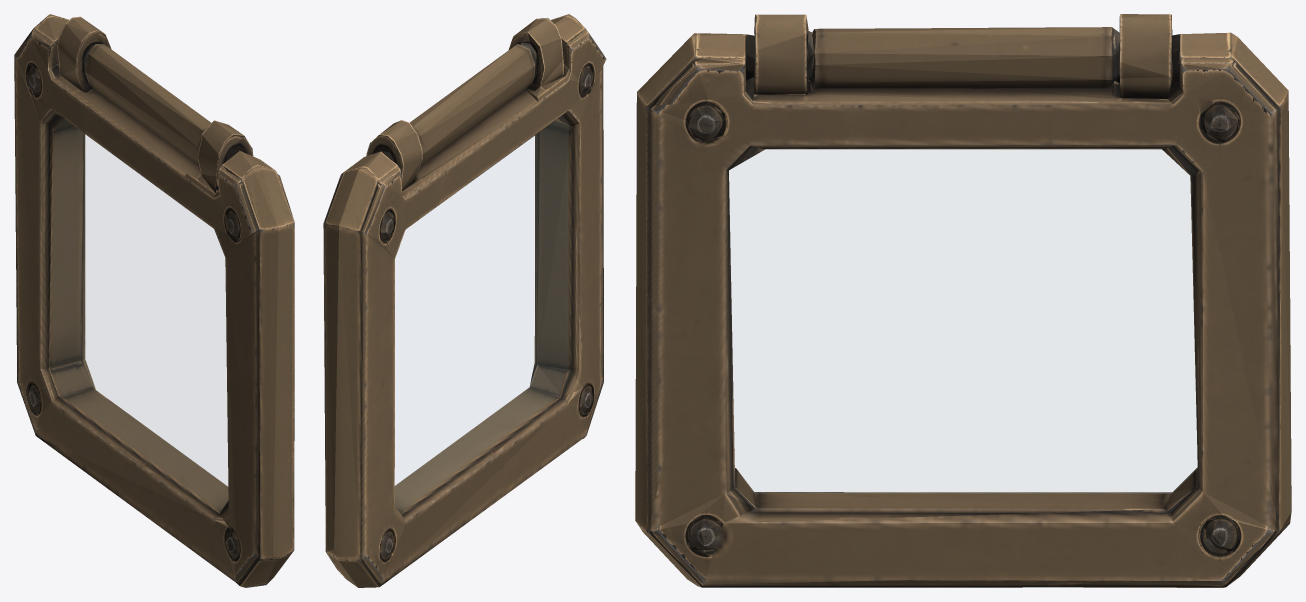
File: shchitok-kryshka.glb
3 views of the same model, side by side, from view 1: azimuth 30°, elevation 25°; view 2: azimuth 150°, elevation 25°; view 3: azimuth 270°, elevation 25° (orthographic). The views are drawn at different scales.
Parts seen in each view (by area): view 1: shchitok-kryshka; view 2: shchitok-kryshka; view 3: shchitok-kryshka.
Boxes of the visible parts, x1,y1,x2,y2 form: shchitok-kryshka: (14,14,294,587); shchitok-kryshka: (323,14,606,587); shchitok-kryshka: (635,14,1291,587).
Bounding box in the file's own units: 0.045 × 0.38 × 0.4.
Materials: 2 (1 with a texture image).
